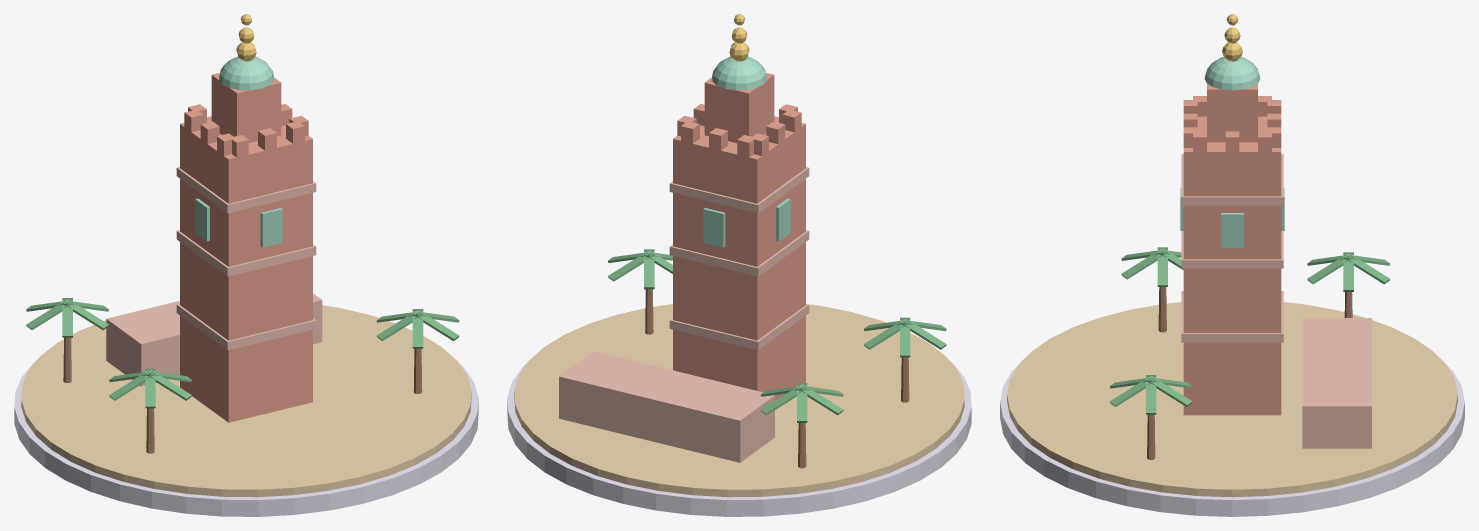
Rendered from kutubiye.glb.
The picture shows the model from 3 angles, left to right: view 1: azimuth 30°, elevation 25°; view 2: azimuth 150°, elevation 25°; view 3: azimuth 270°, elevation 25°; orthographic projection.
Parts seen in each view (by area): view 1: kutubiye; view 2: kutubiye; view 3: kutubiye.
Part boxes in pixels (x1,y1,x2,y2): kutubiye: (14, 14, 478, 516); kutubiye: (507, 14, 971, 516); kutubiye: (1000, 14, 1464, 516).
Bounding box in the file's own units: 2 × 1.92 × 2.
1 material, 1 textured.
